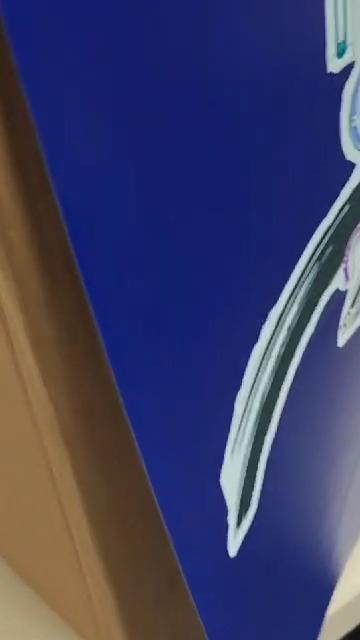B_R1: (207, 0, 360, 578)
